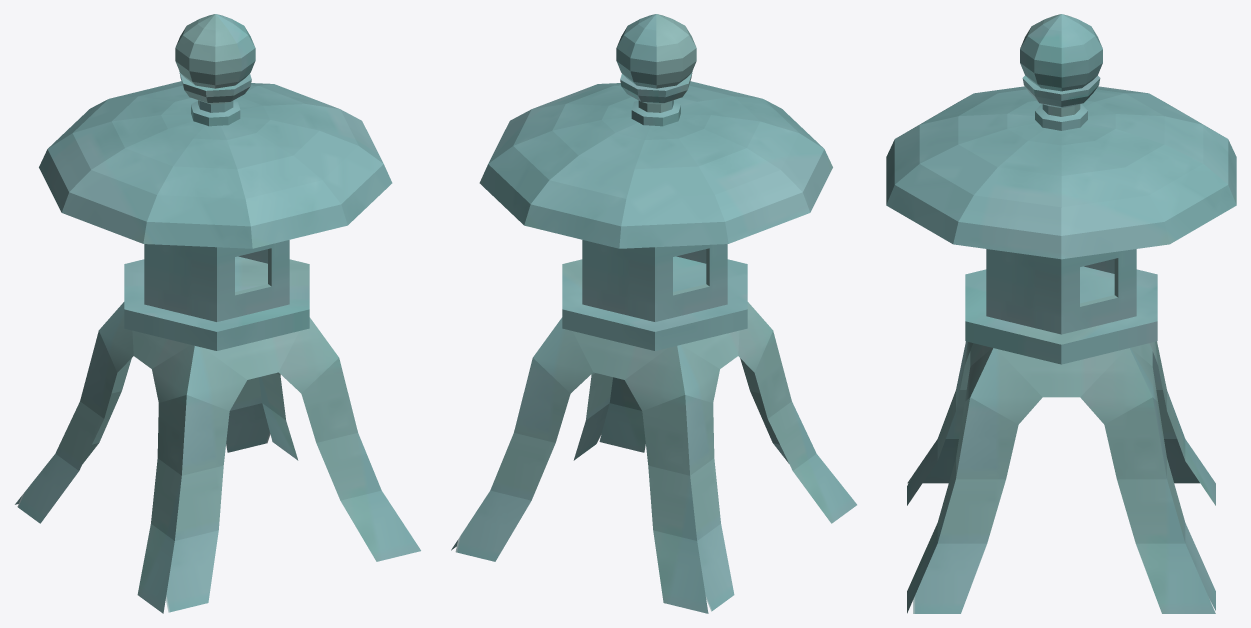
Rendered from SM_StoneLantern_03.fbx.
3 views of the same model, side by side, from view 1: azimuth 30°, elevation 25°; view 2: azimuth 150°, elevation 25°; view 3: azimuth 270°, elevation 25° (orthographic). The views are drawn at different scales.
Parts seen in each view (by area): view 1: SM_StoneLantern_03; view 2: SM_StoneLantern_03; view 3: SM_StoneLantern_03.
Boxes of the visible parts, <box> form: SM_StoneLantern_03: <box>15,14,420,613</box>; SM_StoneLantern_03: <box>451,14,856,613</box>; SM_StoneLantern_03: <box>886,14,1236,613</box>.
Size of the model in its own units: 93.21 by 149 by 88.65.
